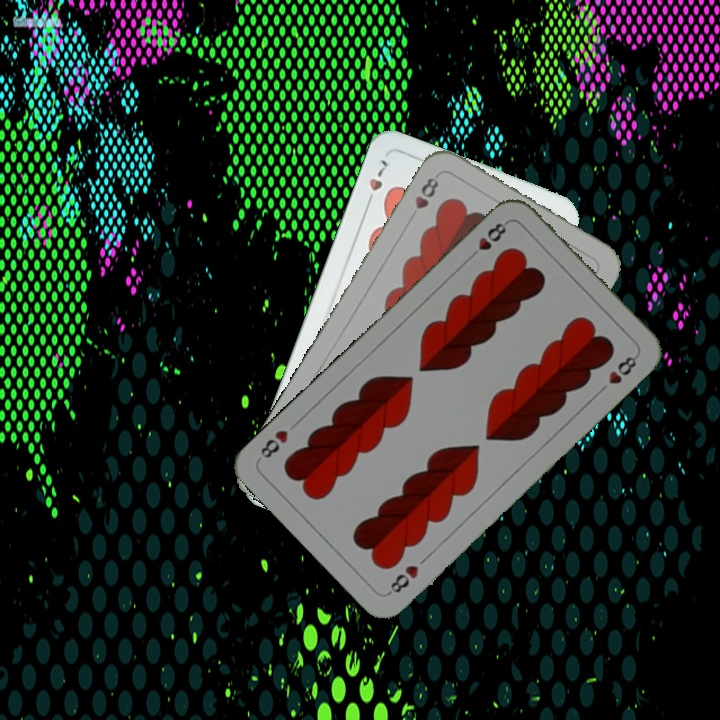H7: (361, 155, 392, 210)
H8: (464, 217, 511, 263), (405, 173, 442, 224), (384, 561, 421, 598)
